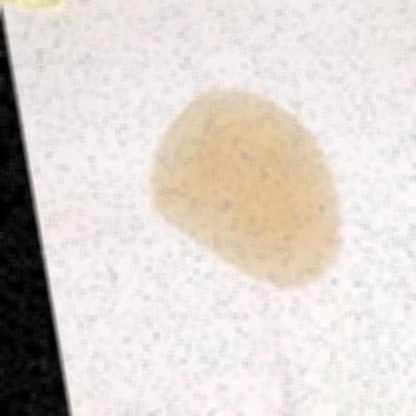coffee: (154, 85, 341, 291)
